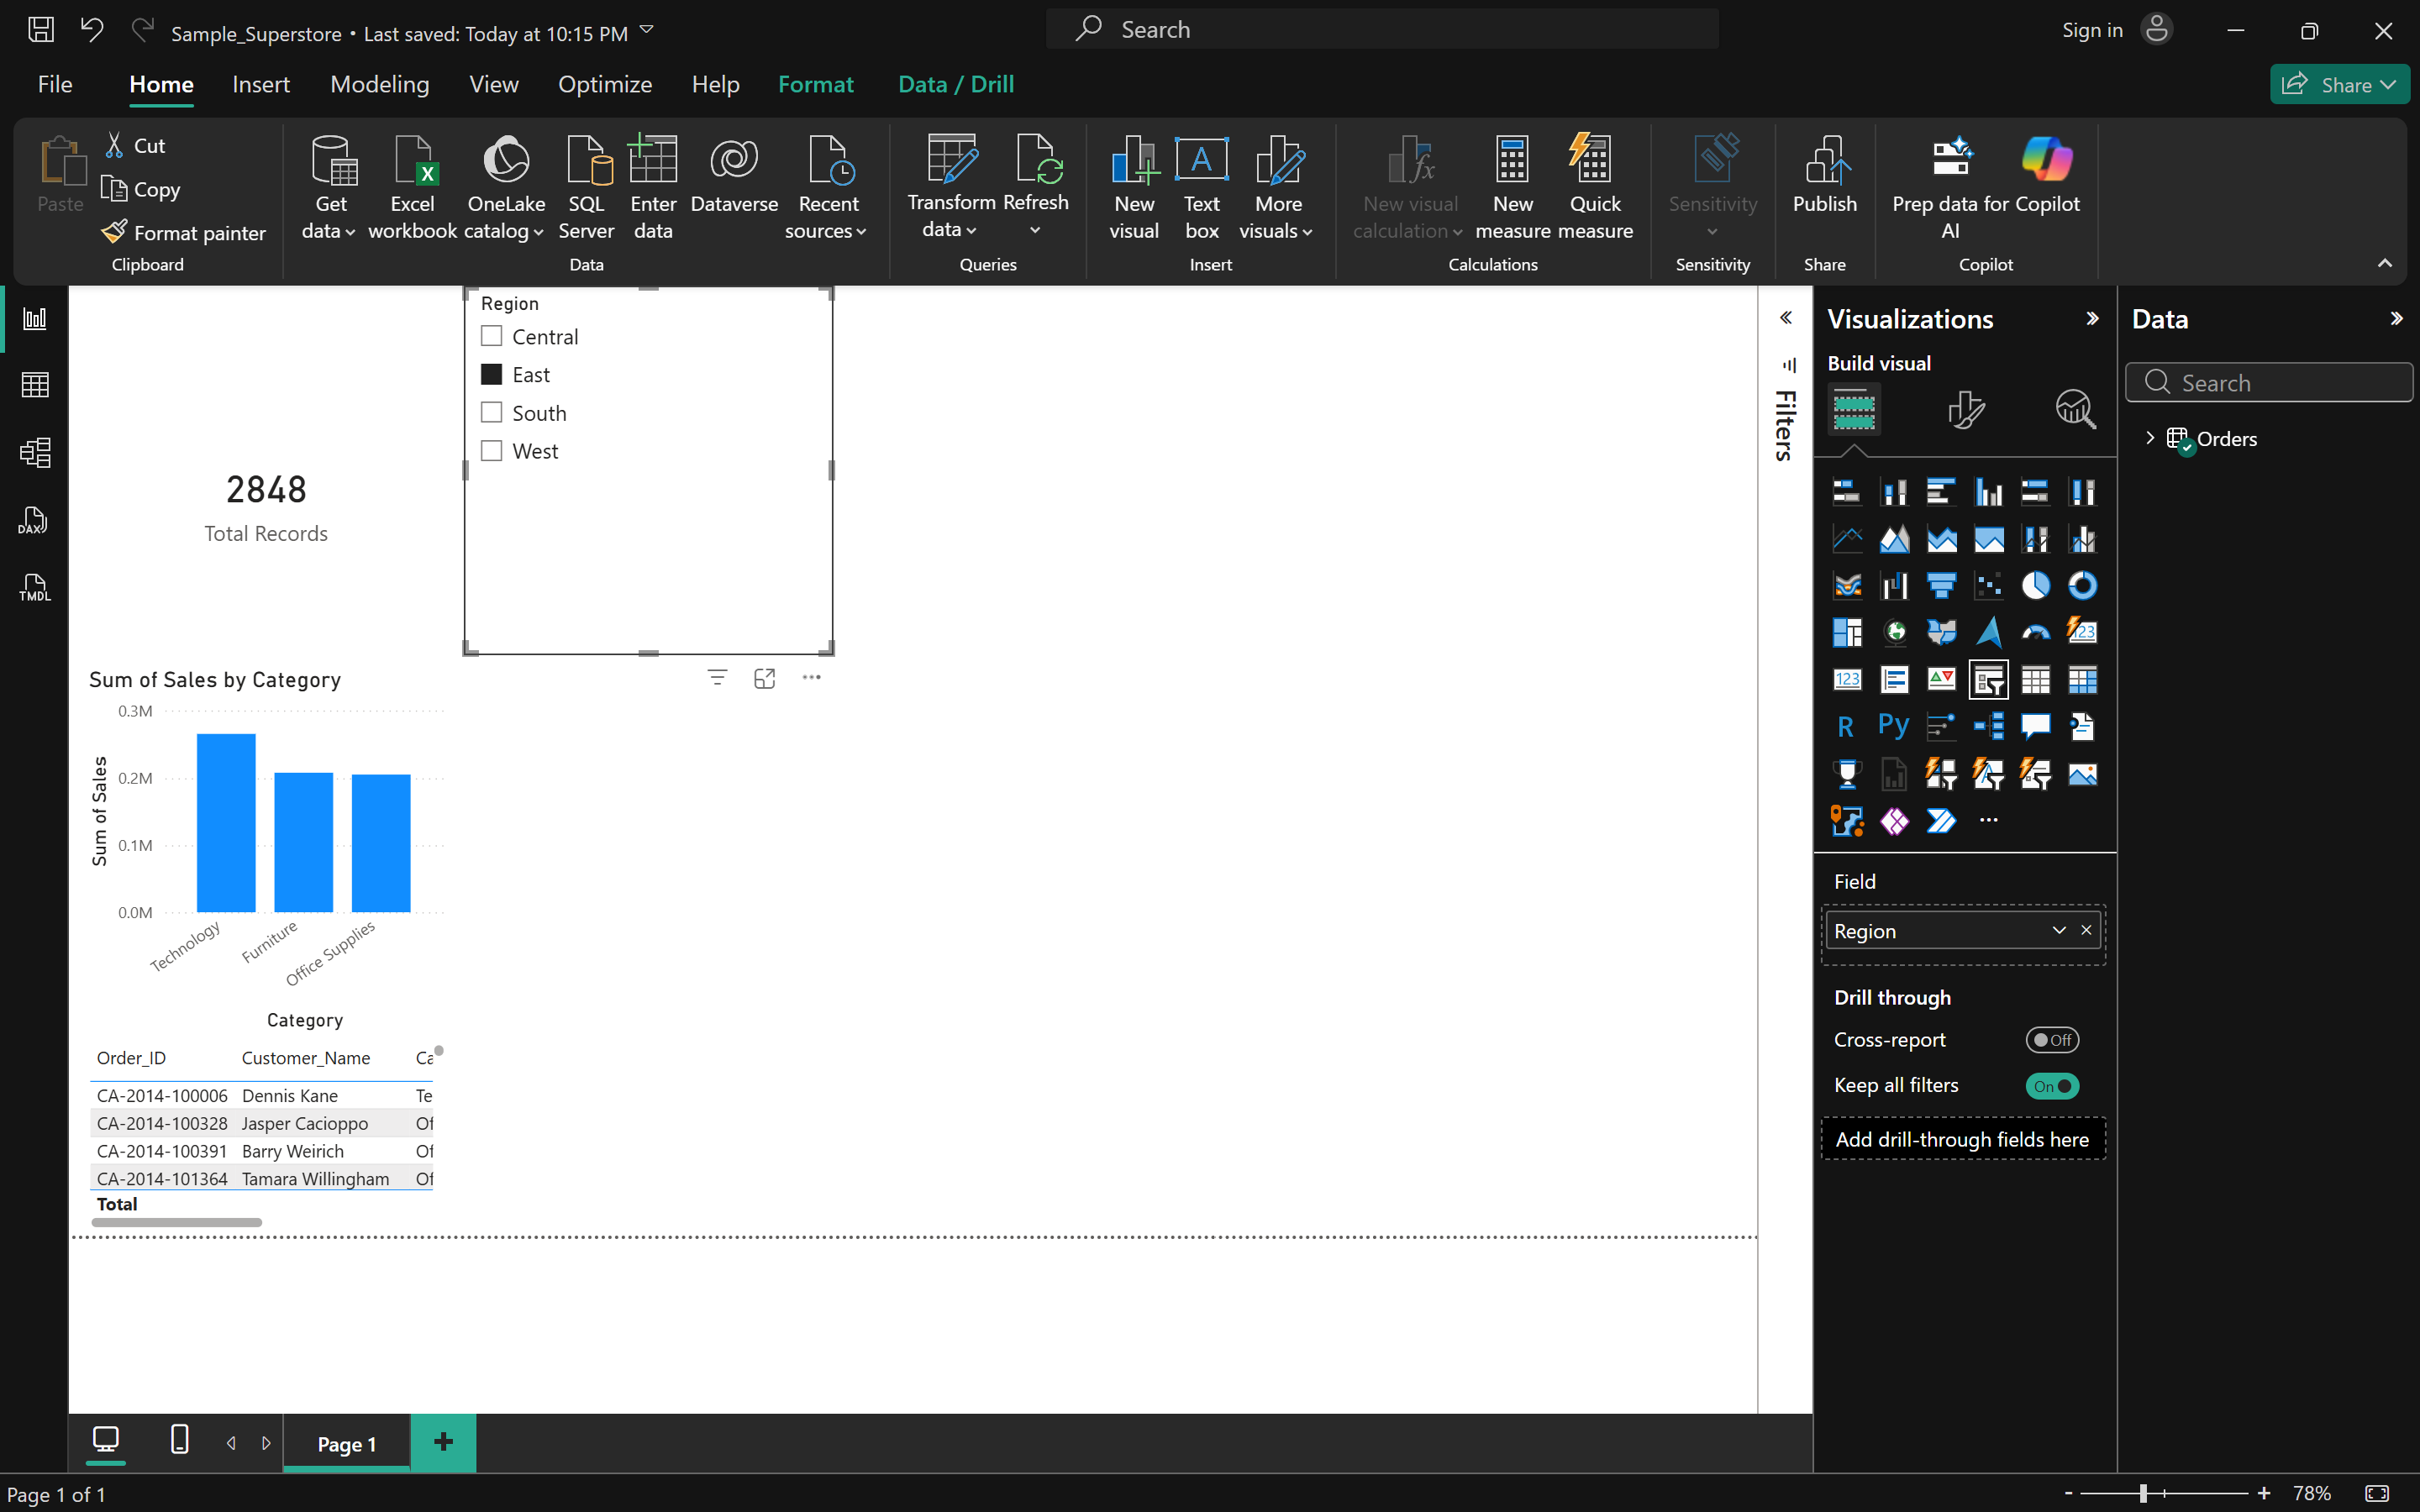

The page's visual inventory and layout, read from the dashboard file:
{"tool":"powerbi","page":{"name":"Page 1","canvas":[1280,720],"ordinal":0},"visuals":[{"type":"card","fields":{"Values":["Orders.Total Records"]},"box":[10,0,280,280],"z":0},{"type":"clusteredColumnChart","fields":{"Category":["Orders.Category"],"Y":["Sum(Orders.Sales)"]},"box":[10,290,280,280],"z":1},{"type":"tableEx","fields":{"Values":["Orders.Order_ID","Orders.Customer_Name","Orders.Category","Sum(Orders.Sales)","Sum(Orders.Profit)"]},"box":[10,570,280,150],"z":2},{"type":"slicer","fields":{"Values":["Orders.Region"]},"box":[300,0,280,280],"z":3}]}

Visuals, with their boxes on the page's 1280x720 design canvas (x1, y1, x2, y2). These are canvas units, not pixel positions in the 2420x1512 screenshot, which may show the page scaled, cropped or inside an application window:
card - Orders.Total Records: [10,0,290,280]
clusteredColumnChart - Orders.Category x Sum(Orders.Sales): [10,290,290,570]
tableEx - Orders.Order_ID x Orders.Customer_Name: [10,570,290,720]
slicer - Orders.Region: [300,0,580,280]
